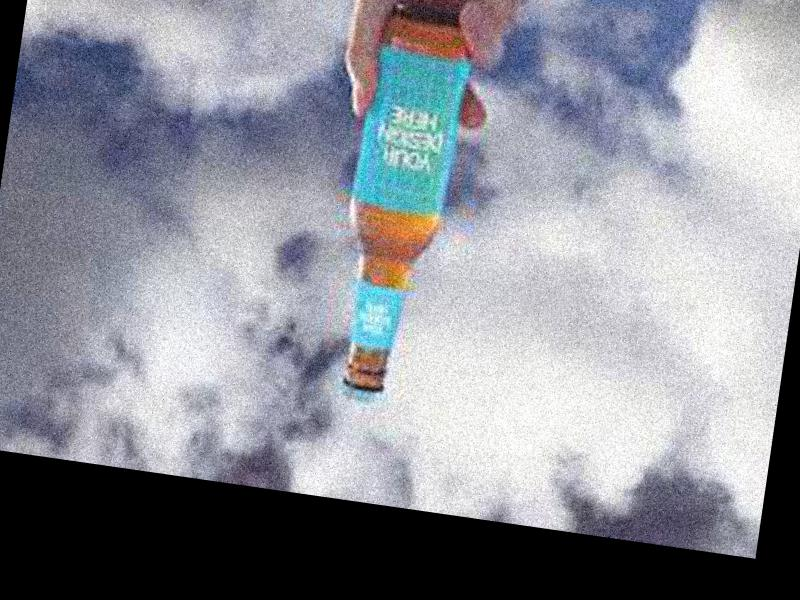Beer: (323, 7, 467, 406)
